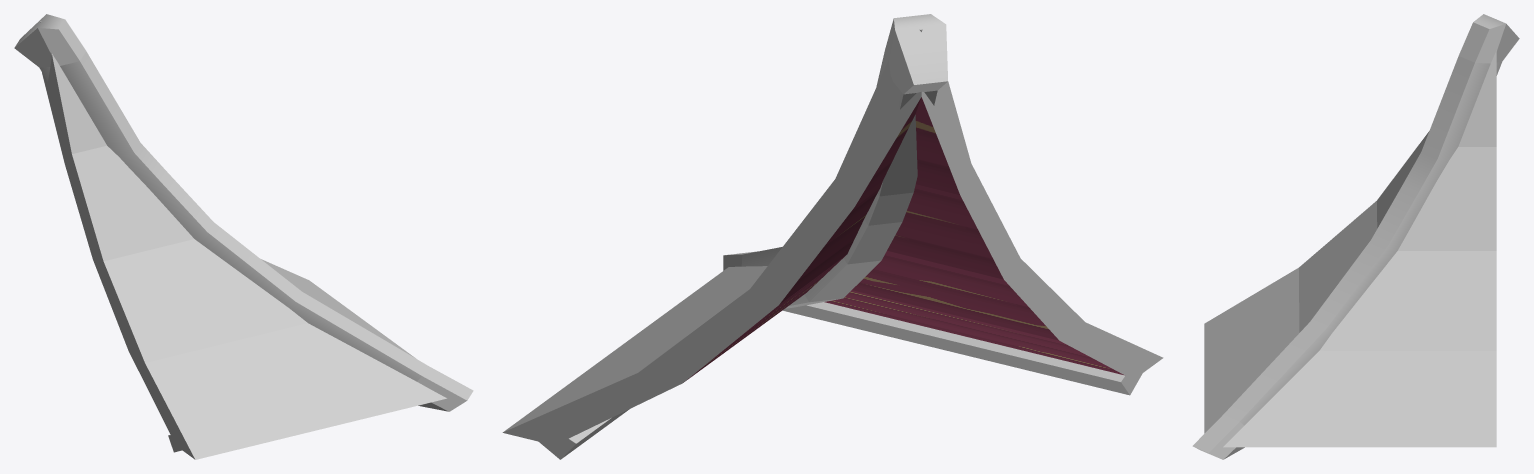
The model's file is SM_Bld_Roof_Concave_Corner_Out_01.fbx.
3 renders of one model, left to right at view 1: azimuth 30°, elevation 25°; view 2: azimuth 150°, elevation 25°; view 3: azimuth 270°, elevation 25°, orthographic. The views are drawn at different scales.
Parts seen in each view (by area): view 1: SM_Bld_Roof_Concave_Corner_Out_01; view 2: SM_Bld_Roof_Concave_Corner_Out_01; view 3: SM_Bld_Roof_Concave_Corner_Out_01.
Part boxes in pixels (x1=…): SM_Bld_Roof_Concave_Corner_Out_01: x1=14, y1=14, x2=473, y2=459; SM_Bld_Roof_Concave_Corner_Out_01: x1=502, y1=14, x2=1163, y2=459; SM_Bld_Roof_Concave_Corner_Out_01: x1=1192, y1=14, x2=1519, y2=459.
Bounding box in the file's own units: 293 × 313 × 293.
